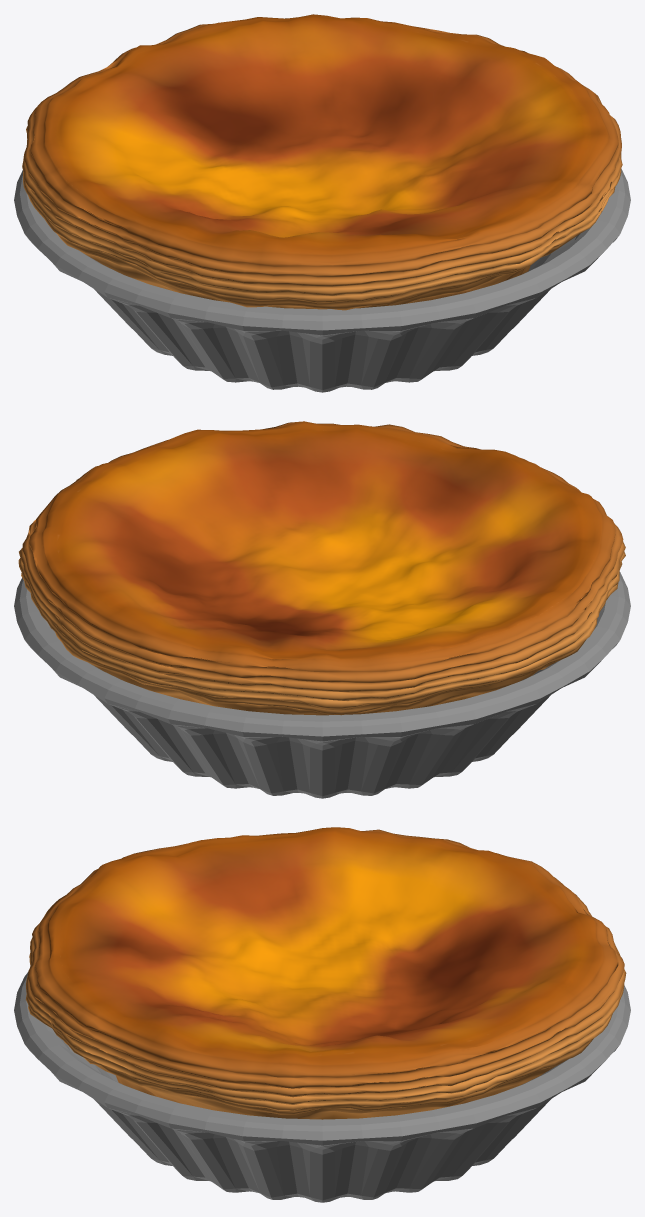
File: tartv2.glb
The picture shows the model from 3 angles, top to bottom: view 1: azimuth 30°, elevation 25°; view 2: azimuth 150°, elevation 25°; view 3: azimuth 270°, elevation 25°; orthographic projection.
Parts seen in each view (by area): view 1: 圆环, 圆环.001; view 2: 圆环, 圆环.001; view 3: 圆环, 圆环.001.
Part boxes in pixels (bbox=[...]): 圆环: bbox=[22, 14, 622, 310]; 圆环.001: bbox=[14, 169, 630, 392]; 圆环: bbox=[18, 421, 625, 715]; 圆环.001: bbox=[14, 572, 630, 798]; 圆环: bbox=[25, 827, 626, 1119]; 圆环.001: bbox=[14, 972, 630, 1202].
Size of the model in its own units: 2.28 by 0.7703 by 2.28.
2 materials, 1 textured.
